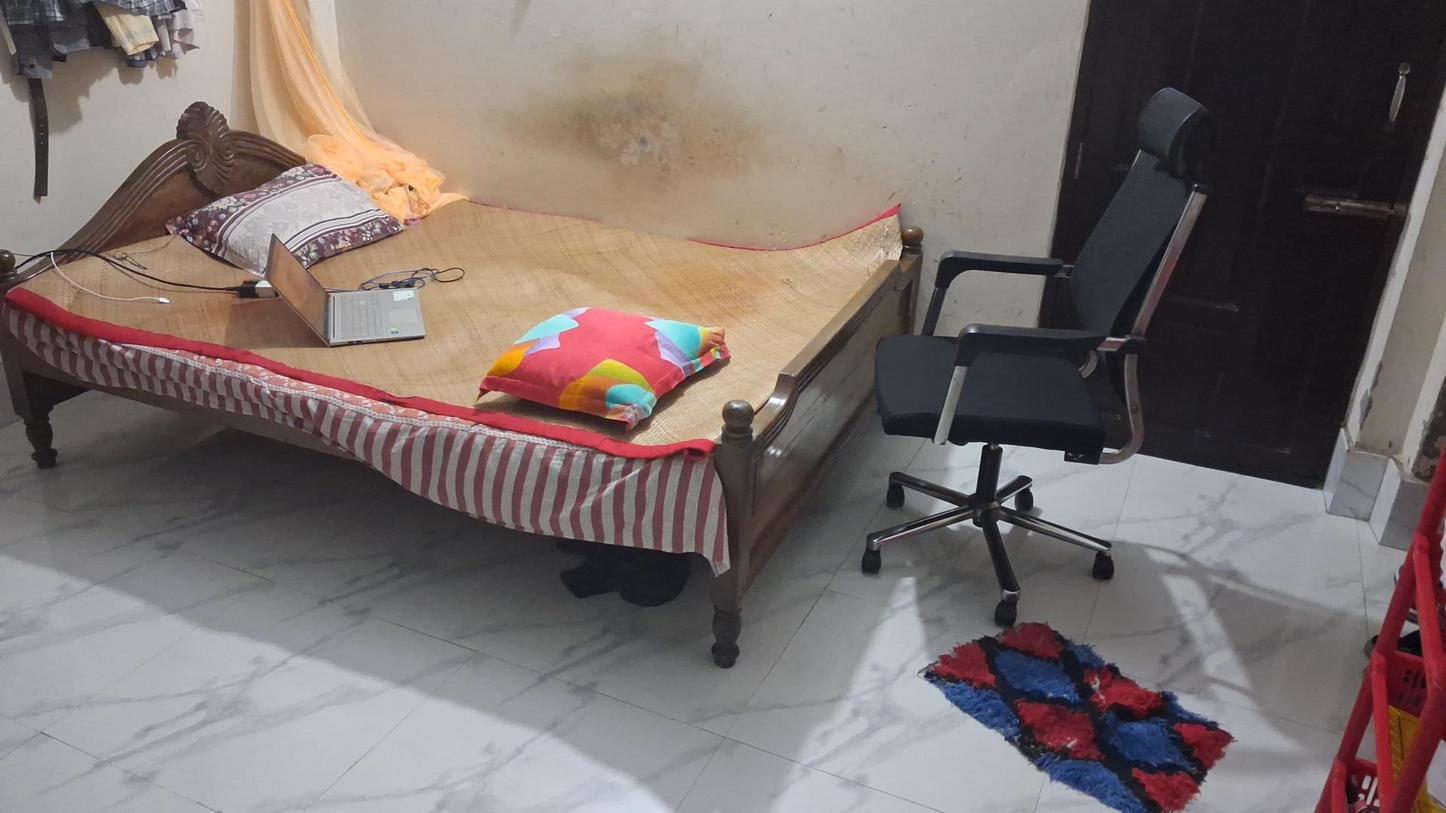Book: (265, 233, 426, 346)
Chair: (860, 86, 1216, 625)
Door: (1074, 5, 1428, 510)
Floor Mat: (908, 638, 1258, 811)
Pillow: (464, 307, 736, 431), (162, 169, 402, 270)
